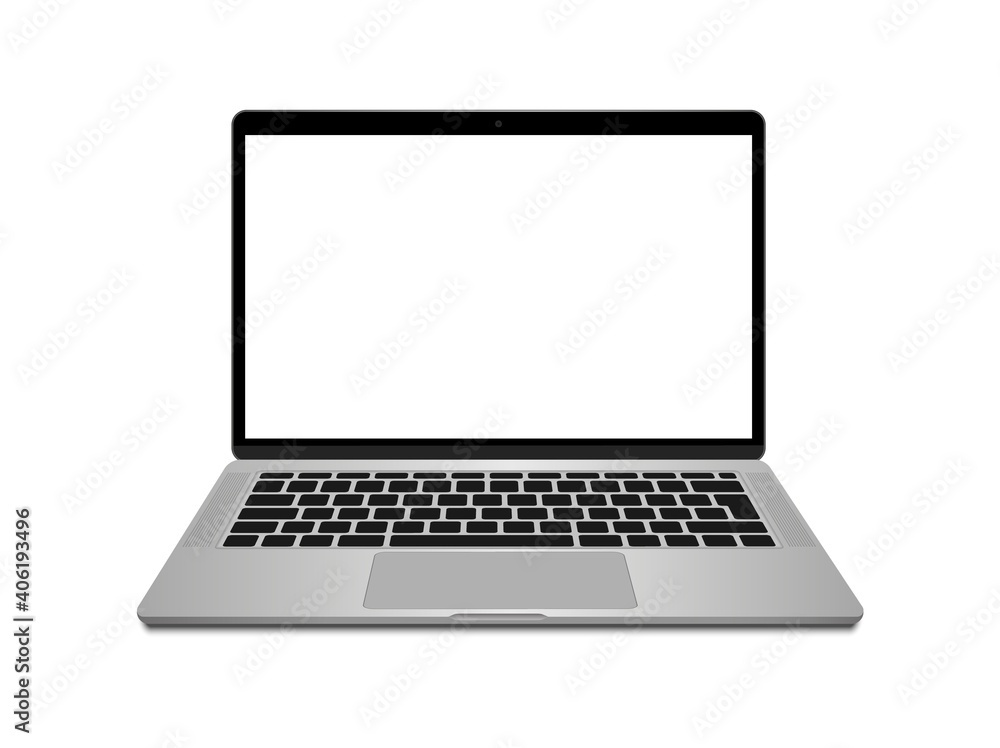laptop: (123, 80, 898, 649)
